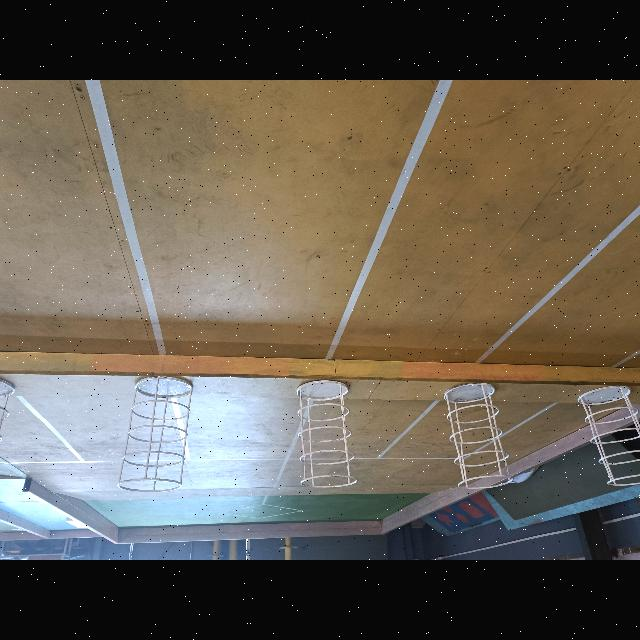S: (116, 374, 196, 494), (439, 381, 511, 491), (295, 379, 357, 488), (576, 384, 640, 488), (1, 374, 18, 496)
